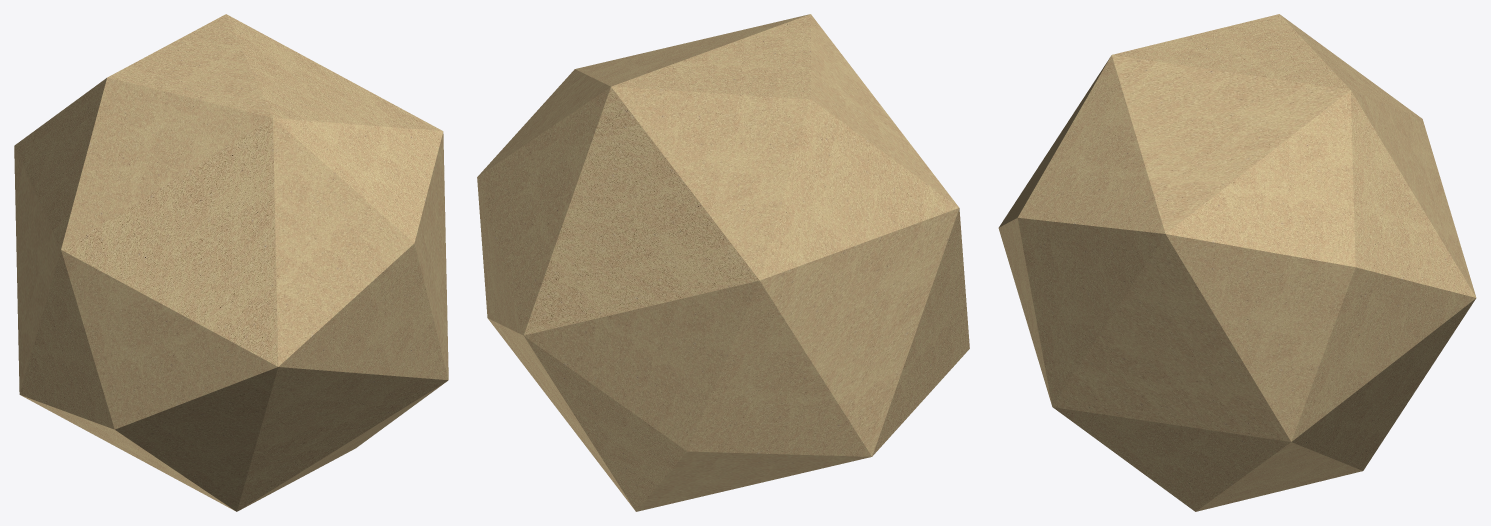
The model's file is stone.obj.
The picture shows the model from 3 angles, left to right: view 1: azimuth 30°, elevation 25°; view 2: azimuth 150°, elevation 25°; view 3: azimuth 270°, elevation 25°; orthographic projection. The views are drawn at different scales.
Parts seen in each view (by area): view 1: GeoSphere016; view 2: GeoSphere016; view 3: GeoSphere016.
Part boxes in pixels (box(x1,y1,x2,y2)): GeoSphere016: box(14, 14, 448, 511); GeoSphere016: box(477, 14, 969, 511); GeoSphere016: box(998, 14, 1476, 511).
Bounding box in the file's own units: 455 × 432 × 472.
